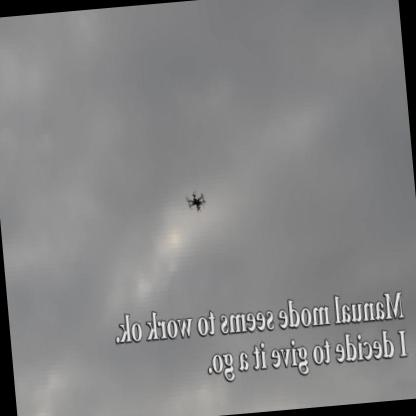drone: (185, 189, 209, 217)
